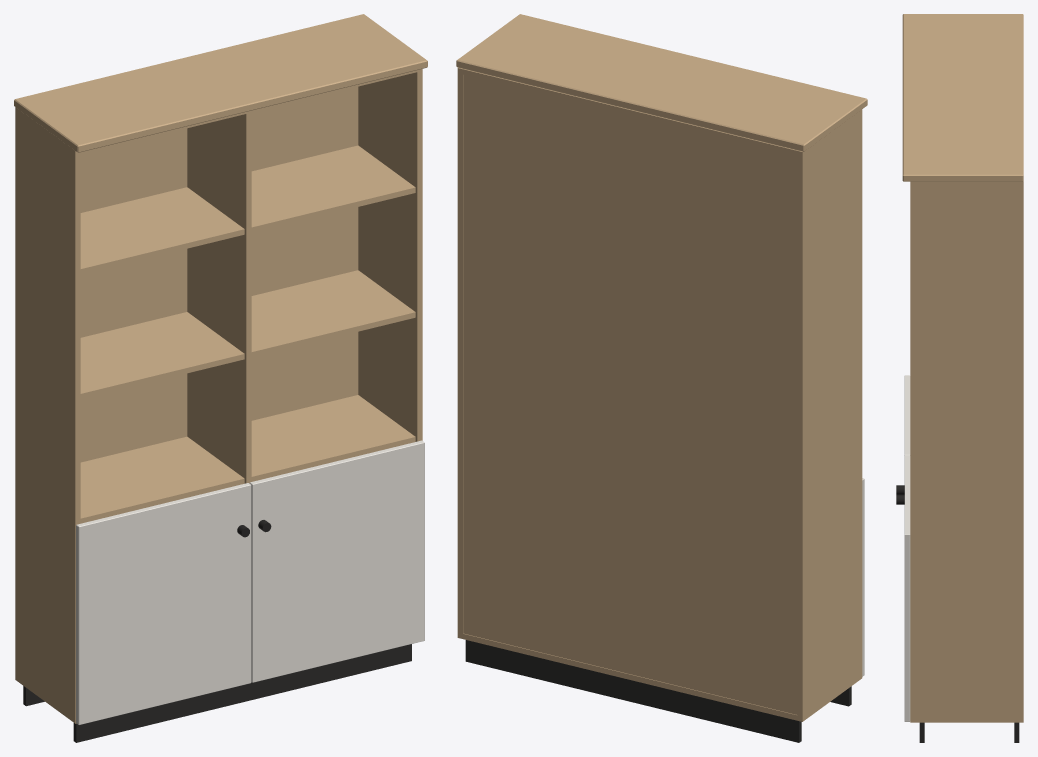
File: 37_regal_120_drzwi.glb
3 views of the same model, side by side, from view 1: azimuth 30°, elevation 25°; view 2: azimuth 150°, elevation 25°; view 3: azimuth 270°, elevation 25° (orthographic). The views are drawn at different scales.
Parts seen in each view (by area): view 1: Korpus, Front_drzwi_4, Front_drzwi_8, Wierzch, Cokol; view 2: Korpus, Wierzch, Cokol; view 3: Korpus, Wierzch, Front_drzwi_8, Front_drzwi_4, Cokol.
Boxes of the visible parts, x1,y1,x2,y2 form: Korpus: (15,69,422,723); Front_drzwi_4: (76,483,251,724); Front_drzwi_8: (249,440,424,682); Wierzch: (14,14,427,152); Cokol: (23,644,411,742); Korpus: (457,67,862,721); Wierzch: (456,14,867,151); Cokol: (465,640,851,742); Korpus: (910,181,1023,722); Wierzch: (902,14,1023,181); Front_drzwi_8: (904,455,910,721); Front_drzwi_4: (904,375,910,455); Cokol: (919,722,1019,742).
Bounding box in the file's own units: 1.21 × 2 × 0.404.
